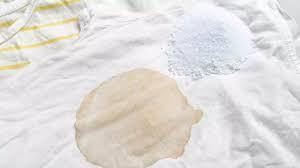coffee: (73, 69, 203, 168)
